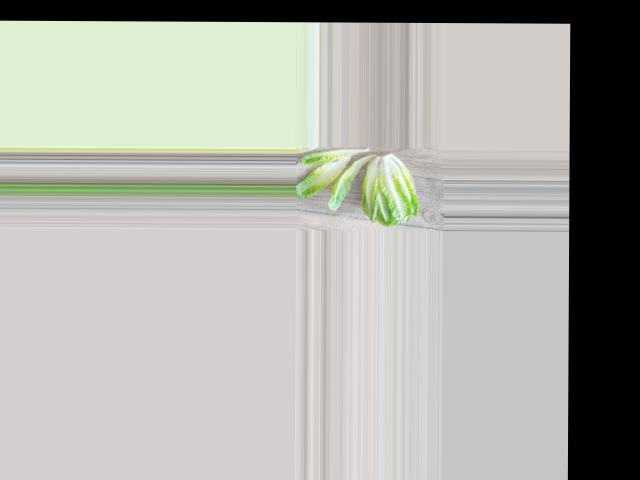lettuce: (358, 155, 422, 225)
